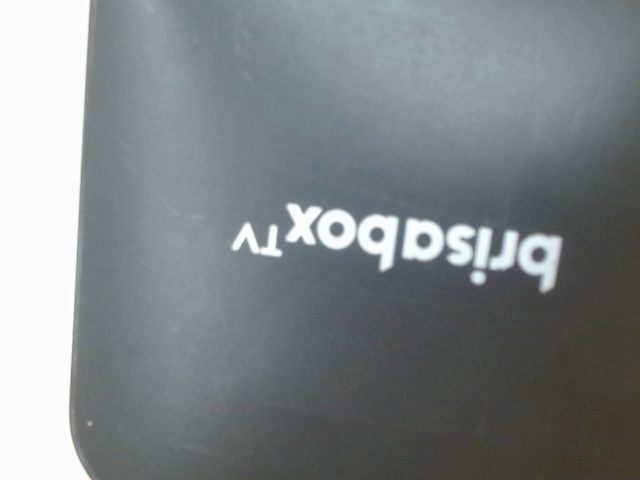AH_brisabox: (223, 196, 571, 296)
